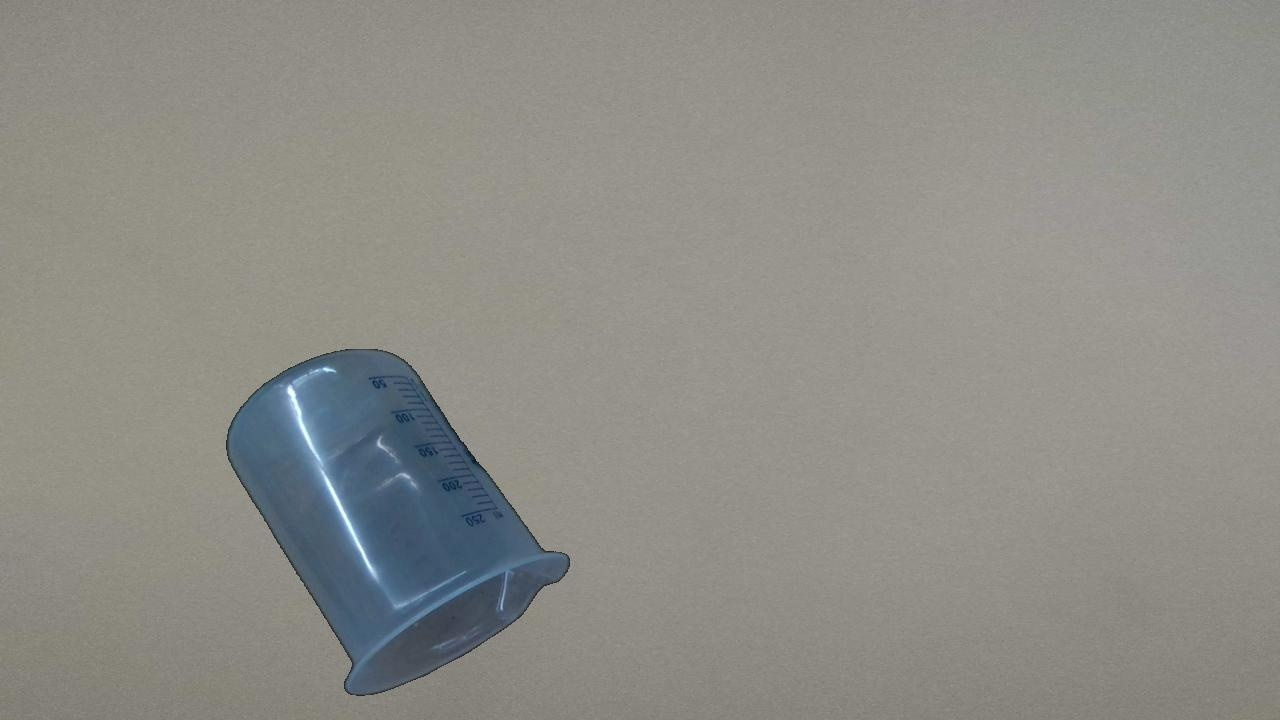becker: (225, 347, 572, 697)
